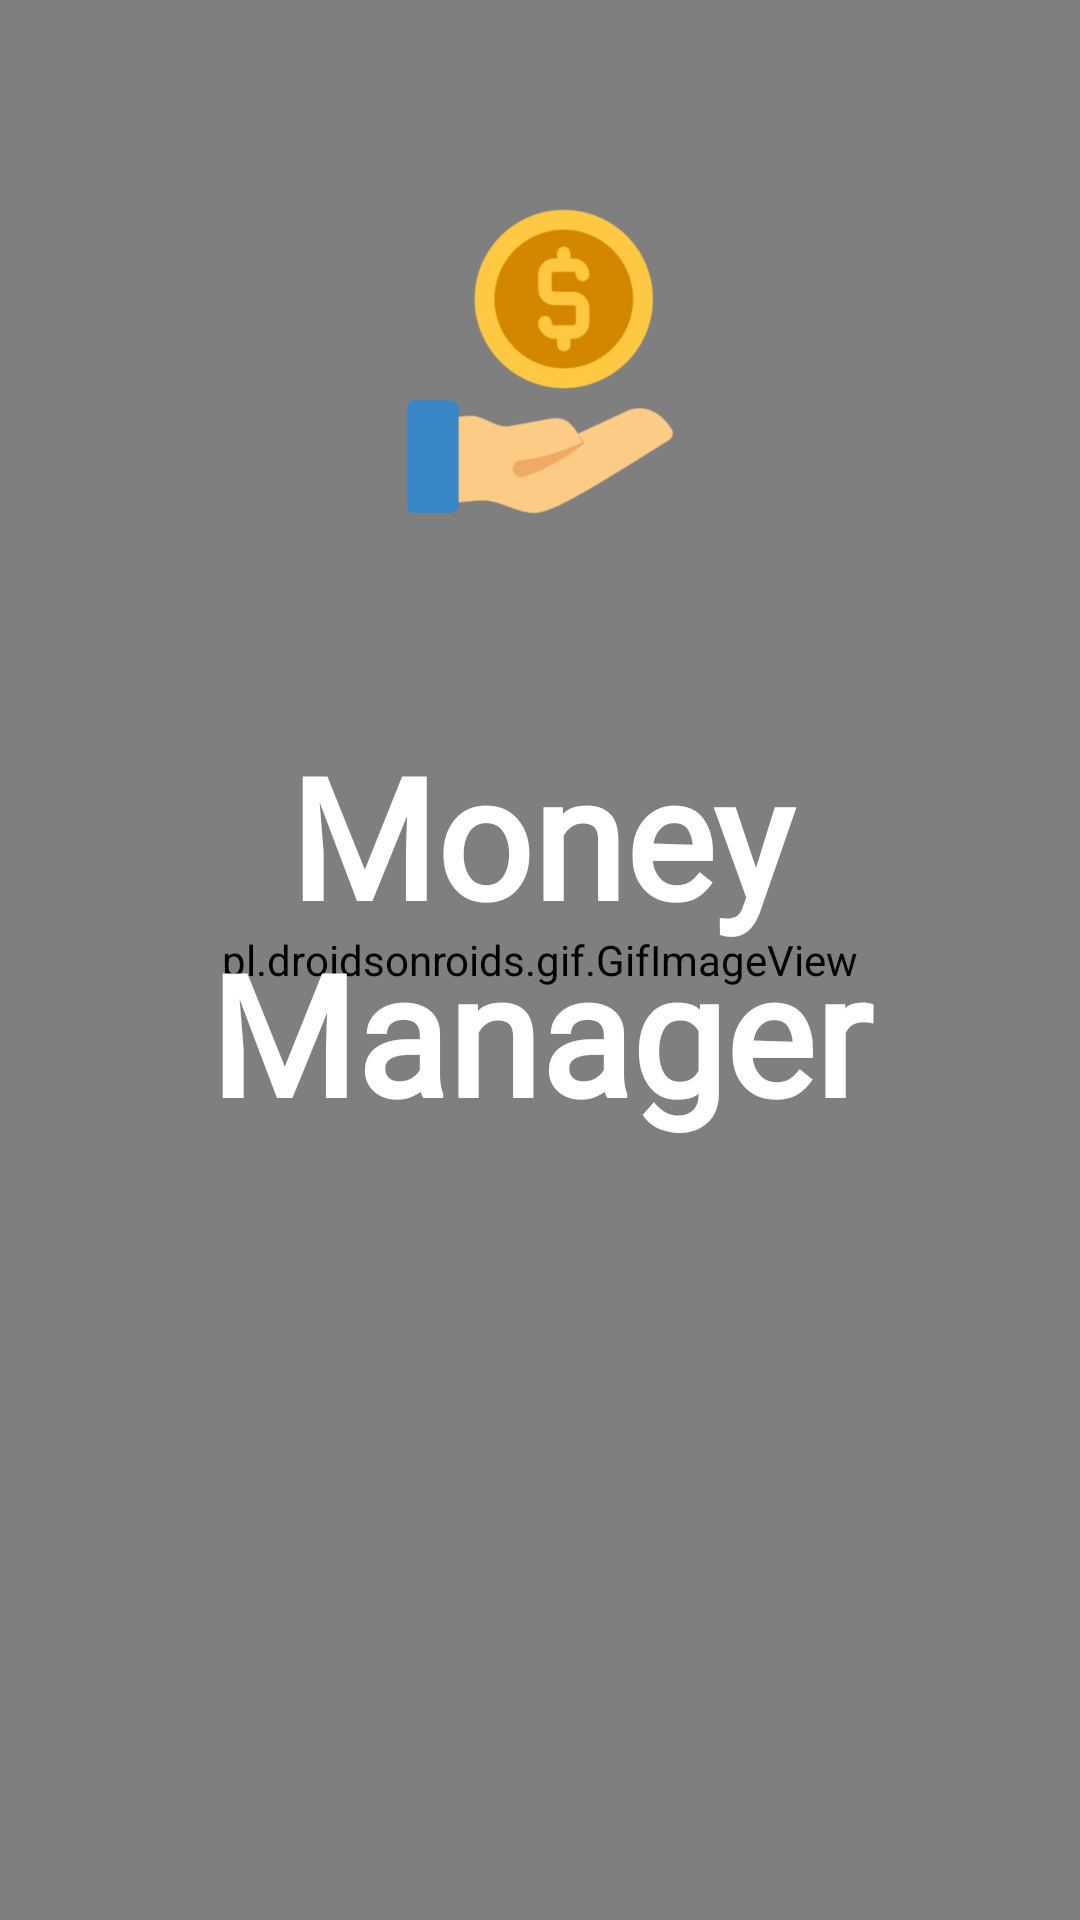

Screen size 1080*1920. Icon name, then its box in pixels as (x1, y1, x2, y2):
coin: (407, 209, 673, 513)
